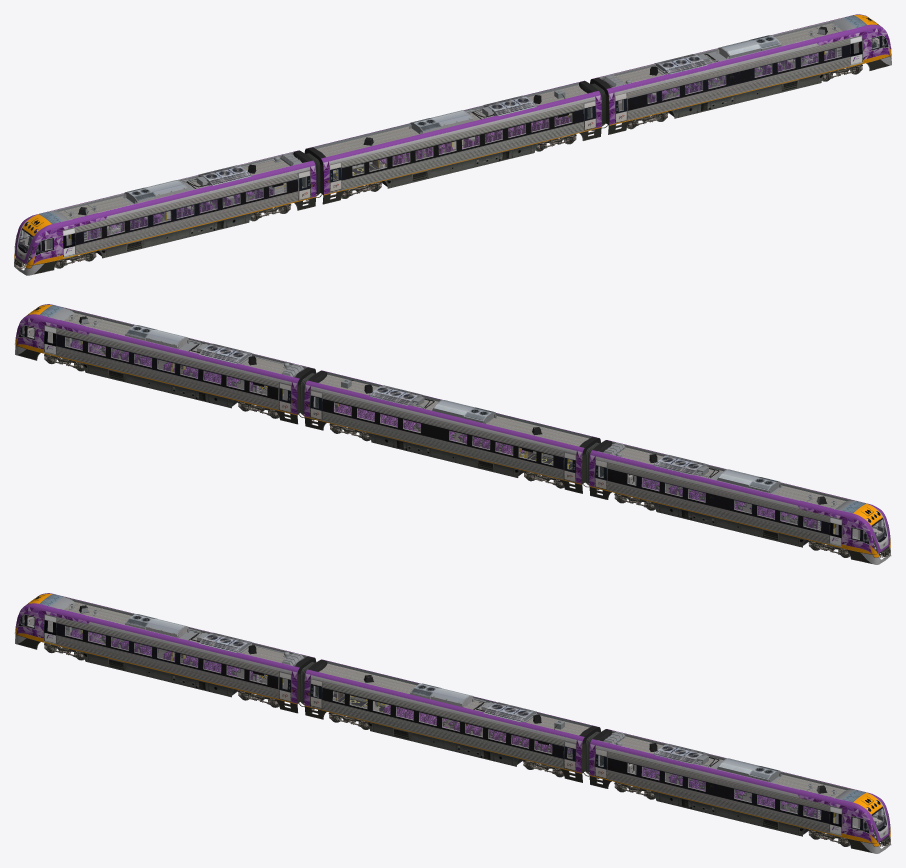
File: australian_vline_vlocity_dmu__passenger_train.glb
3 renders of one model, top to bottom at view 1: azimuth 30°, elevation 25°; view 2: azimuth 150°, elevation 25°; view 3: azimuth 330°, elevation 25°, orthographic.
Parts seen in each view (by area): view 1: exterior.002_66, exterior_44, exterior_middle_22, windows.002_65, windows.001_21, exterior.001_16, windows_43, chairs_7, chair.001_51, chair_29, interior.002_61, interior_39 (+1 smaller); view 2: exterior.002_66, exterior_44, exterior_middle_22, windows.002_65, windows_43, exterior.001_16, windows.001_21, chairs_7, chair_29, chair.001_51, interior_39, interior.002_61 (+1 smaller); view 3: exterior_44, exterior.002_66, exterior_middle_22, windows_43, windows.002_65, windows.001_21, exterior.001_16, chairs_7, chair.001_51, chair_29, interior.002_61, interior_39 (+1 smaller).
Part boxes in pixels (x1=…): exterior.002_66: x1=14, y1=150, x2=316, y2=275; exterior_44: x1=590, y1=14, x2=891, y2=134; exterior_middle_22: x1=304, y1=80, x2=601, y2=204; windows.002_65: x1=14, y1=183, x2=286, y2=263; windows.001_21: x1=352, y1=113, x2=572, y2=175; exterior.001_16: x1=410, y1=95, x2=537, y2=133; windows_43: x1=647, y1=36, x2=887, y2=103; chairs_7: x1=379, y1=113, x2=571, y2=166; chair.001_51: x1=84, y1=187, x2=274, y2=239; chair_29: x1=647, y1=50, x2=836, y2=102; interior.002_61: x1=18, y1=177, x2=306, y2=252; interior_39: x1=618, y1=36, x2=887, y2=110; exterior.002_66: x1=589, y1=440, x2=891, y2=564; exterior_44: x1=14, y1=304, x2=316, y2=424; exterior_middle_22: x1=304, y1=370, x2=600, y2=493; windows.002_65: x1=627, y1=474, x2=890, y2=552; windows_43: x1=19, y1=326, x2=267, y2=395; exterior.001_16: x1=369, y1=385, x2=495, y2=423; windows.001_21: x1=334, y1=402, x2=552, y2=464; chairs_7: x1=334, y1=404, x2=526, y2=455; chair_29: x1=70, y1=339, x2=265, y2=391; chair.001_51: x1=642, y1=478, x2=820, y2=529; interior_39: x1=19, y1=326, x2=287, y2=400; interior.002_61: x1=598, y1=466, x2=886, y2=541; exterior_44: x1=589, y1=729, x2=891, y2=853; exterior.002_66: x1=14, y1=593, x2=316, y2=713; exterior_middle_22: x1=303, y1=659, x2=600, y2=782; windows_43: x1=627, y1=763, x2=890, y2=841; windows.002_65: x1=19, y1=615, x2=267, y2=684; windows.001_21: x1=332, y1=691, x2=552, y2=753; exterior.001_16: x1=410, y1=683, x2=536, y2=722; chairs_7: x1=383, y1=705, x2=572, y2=757; chair.001_51: x1=70, y1=628, x2=265, y2=680; chair_29: x1=642, y1=767, x2=820, y2=818; interior.002_61: x1=19, y1=615, x2=287, y2=689; interior_39: x1=598, y1=755, x2=886, y2=830.
Bounding box in the file's own units: 69.74 × 3.94 × 2.77.
Materials: 7 (7 with a texture image).
